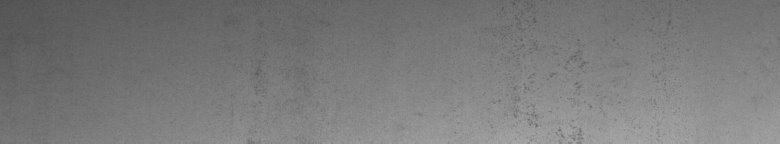ib: (508, 16, 589, 136)
